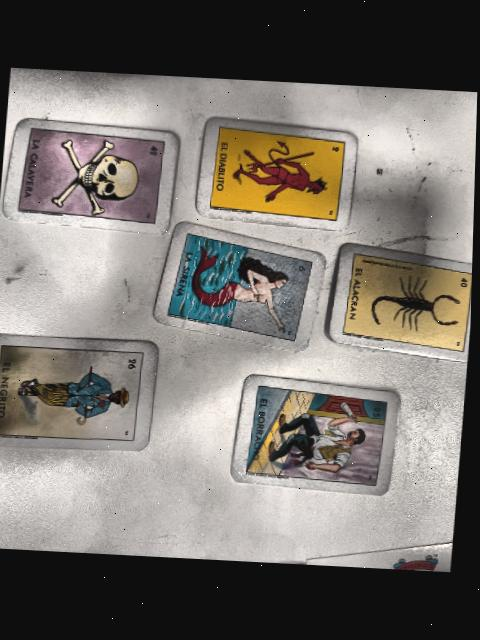El Alacran: (345, 254, 472, 352)
El Borracho: (249, 386, 388, 486)
El Diablito: (211, 127, 346, 220)
El Negrito: (0, 346, 144, 440)
La Calavera: (20, 128, 164, 223)
La Sirena: (169, 233, 313, 341)
